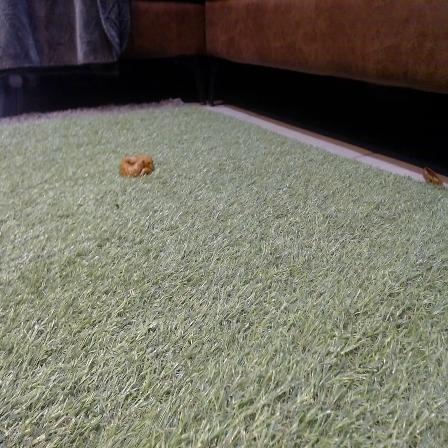dog-poop: (118, 151, 157, 179)
